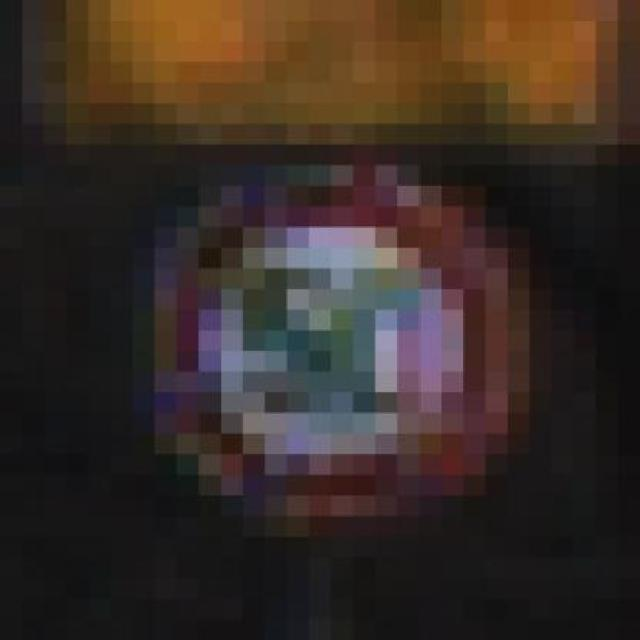forb_speed_over_50: (170, 169, 505, 520)
